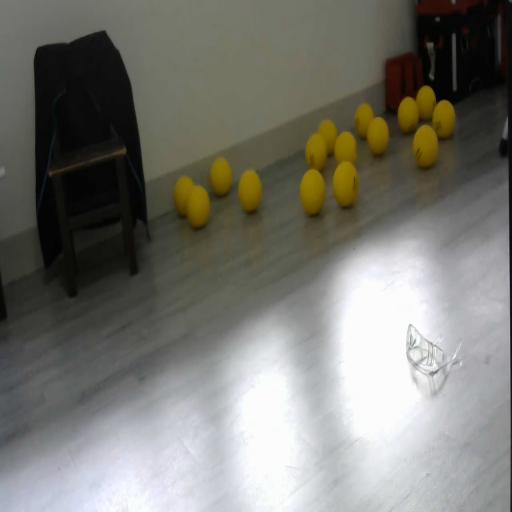FUEL: (299, 167, 326, 216), (332, 159, 358, 208), (237, 168, 263, 213), (412, 124, 438, 168), (173, 174, 196, 217), (432, 98, 456, 139), (366, 116, 390, 155), (210, 156, 232, 197), (334, 130, 358, 167), (316, 118, 338, 156), (397, 96, 419, 133), (415, 85, 436, 121), (354, 102, 374, 130)
